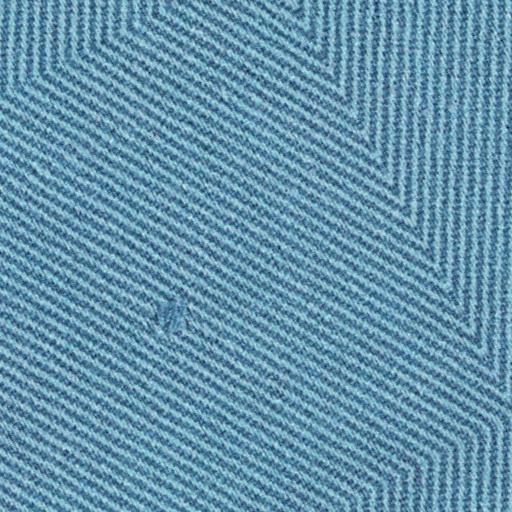knot: (144, 290, 200, 342)
